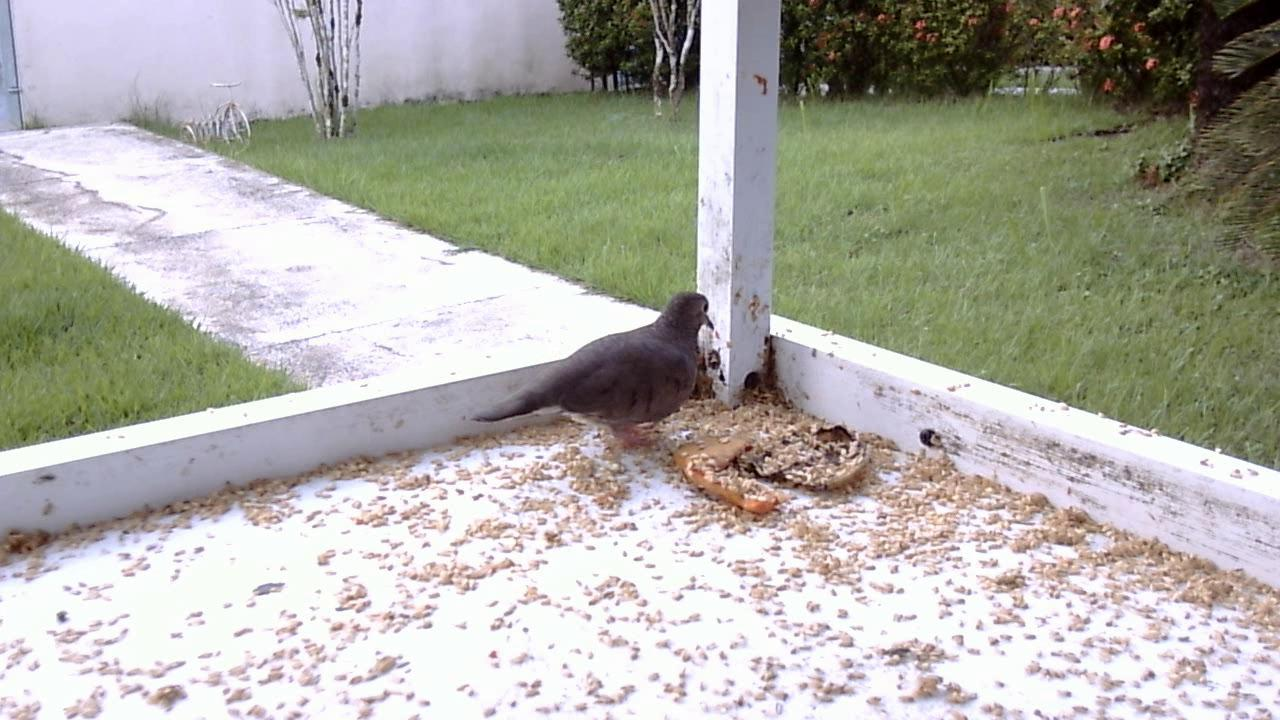rolinha: (469, 283, 718, 458)
